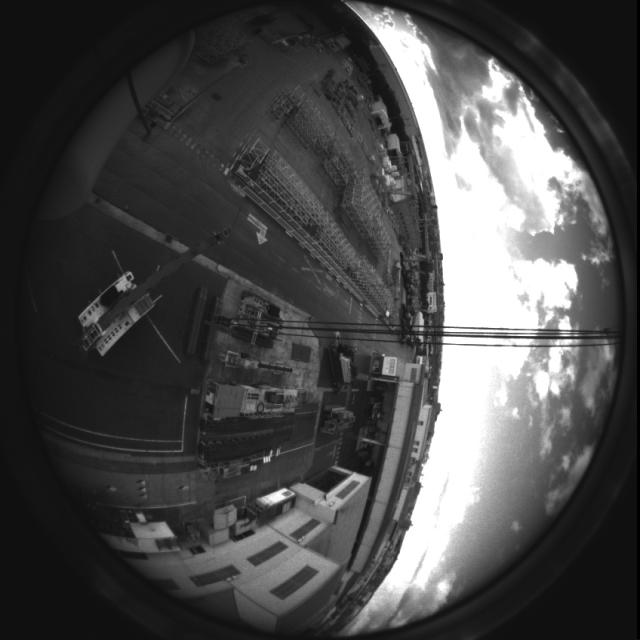rope: (180, 306, 638, 352)
sky: (322, 2, 620, 637)
